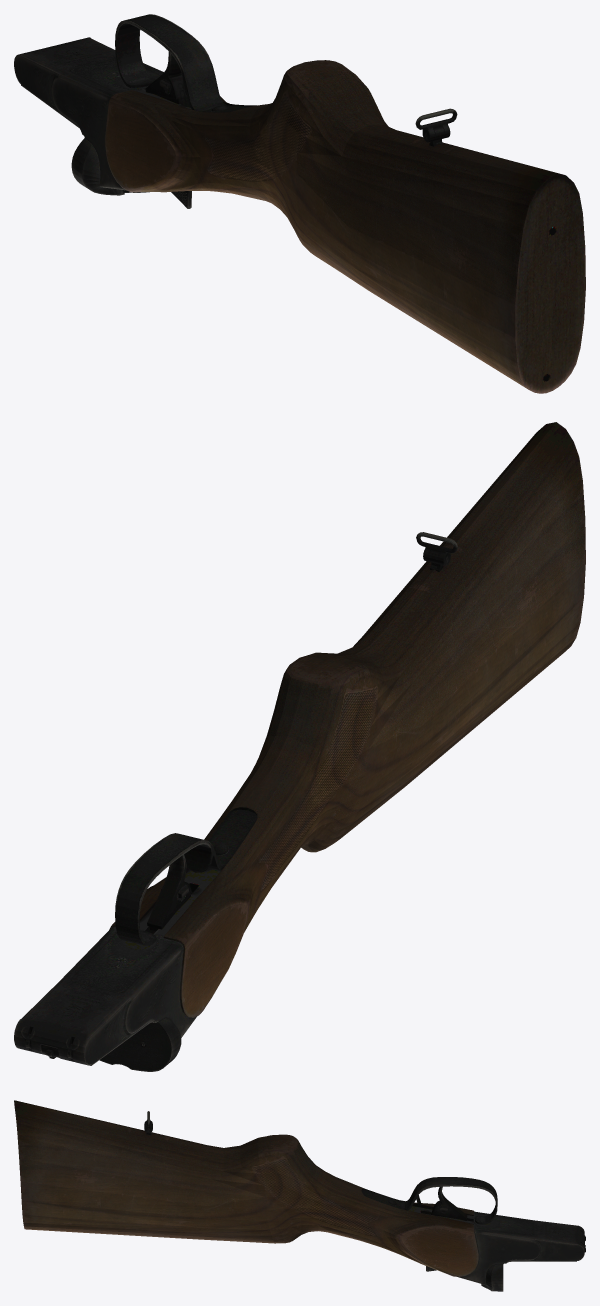
3 views of the same model, one above another, from view 1: azimuth 30°, elevation 25°; view 2: azimuth 150°, elevation 25°; view 3: azimuth 270°, elevation 25° (orthographic). The views are drawn at different scales.
Parts seen in each view (by area): view 1: TW_5580223e4bdc2d1c128b457f_PZ_Import; view 2: TW_5580223e4bdc2d1c128b457f_PZ_Import; view 3: TW_5580223e4bdc2d1c128b457f_PZ_Import.
Boxes of the visible parts, x1=… form: TW_5580223e4bdc2d1c128b457f_PZ_Import: x1=14, y1=14, x2=585, y2=393; TW_5580223e4bdc2d1c128b457f_PZ_Import: x1=14, y1=422, x2=585, y2=1071; TW_5580223e4bdc2d1c128b457f_PZ_Import: x1=14, y1=1100, x2=585, y2=1291.
Bounding box in the file's own units: 0.033 × 0.2899 × 0.1029.
1 material, 1 textured.
